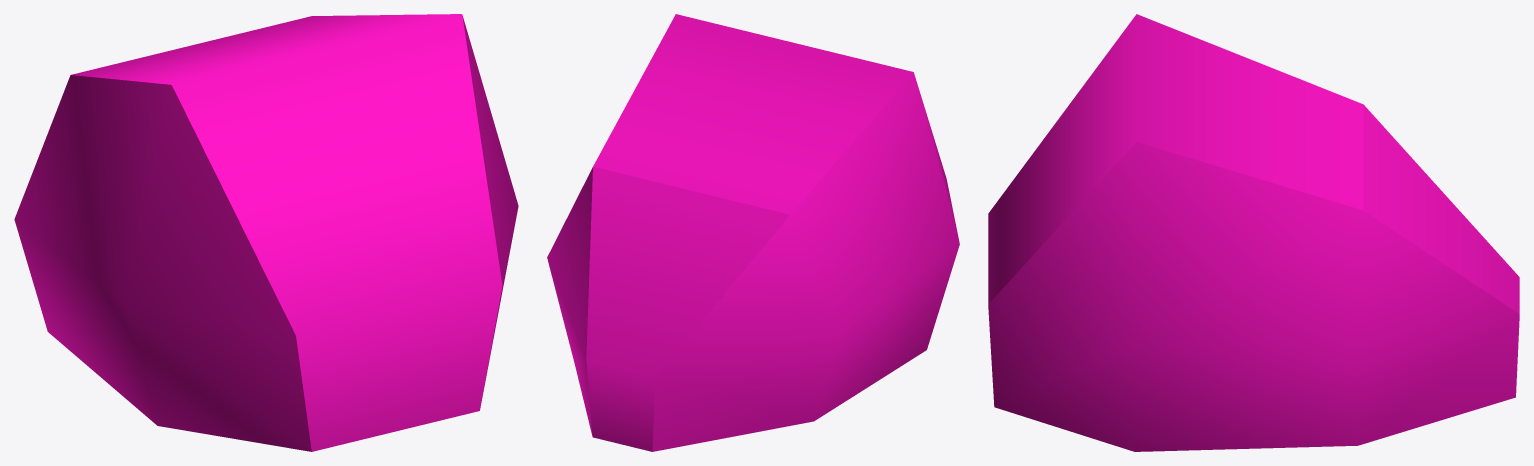
Rendered from study_pillow_bunny_meshCollider.fbx.
3 views of the same model, side by side, from view 1: azimuth 30°, elevation 25°; view 2: azimuth 150°, elevation 25°; view 3: azimuth 270°, elevation 25° (orthographic). The views are drawn at different scales.
Visible parts, largest first — view 1: study_pillow_bunny_meshCollider; view 2: study_pillow_bunny_meshCollider; view 3: study_pillow_bunny_meshCollider.
Boxes of the visible parts, box(x1,y1,x2,y2) form: study_pillow_bunny_meshCollider: box(14, 14, 518, 451); study_pillow_bunny_meshCollider: box(547, 14, 959, 451); study_pillow_bunny_meshCollider: box(988, 14, 1519, 451).
Size of the model in its own units: 25.82 by 21.08 by 33.47.
